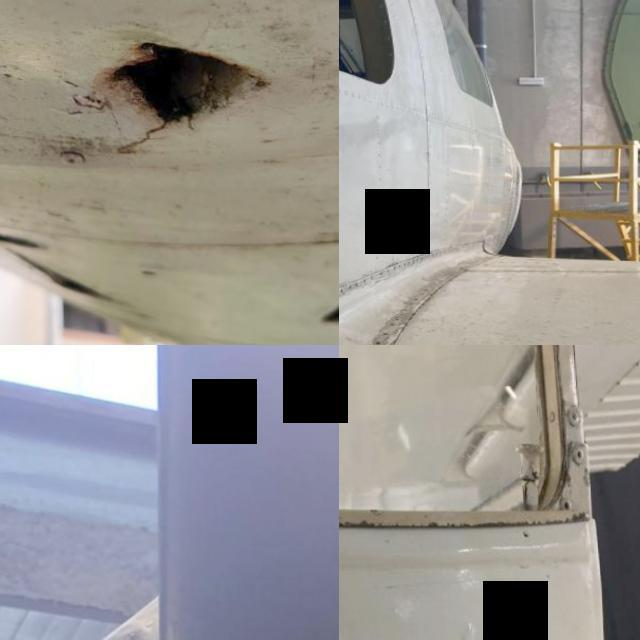Crack: (82, 20, 284, 164), (339, 492, 597, 530), (504, 559, 564, 640)
Missing_Fastener: (371, 340, 377, 345), (387, 322, 391, 327), (346, 286, 350, 290), (360, 278, 364, 282), (380, 332, 384, 335), (339, 288, 342, 292), (352, 283, 356, 286), (368, 275, 371, 279)
